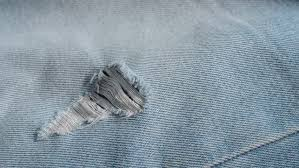Hole: (20, 48, 163, 151)
